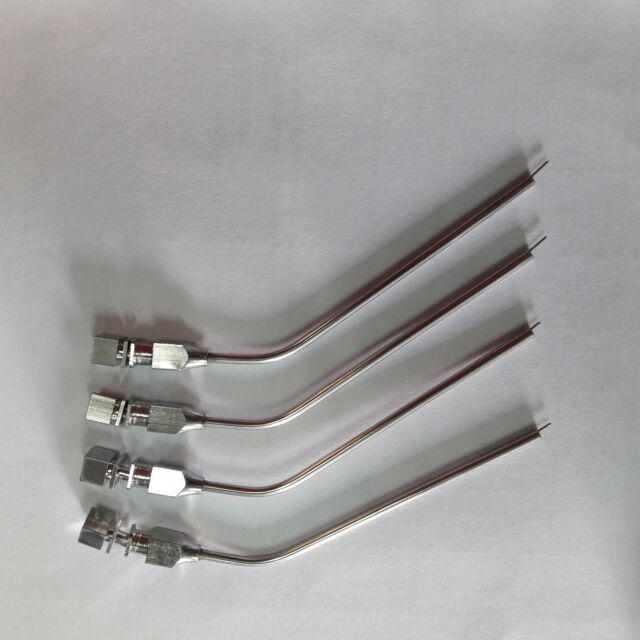Frazier: (92, 169, 537, 373), (83, 244, 535, 438), (80, 321, 537, 501), (76, 421, 541, 574)
